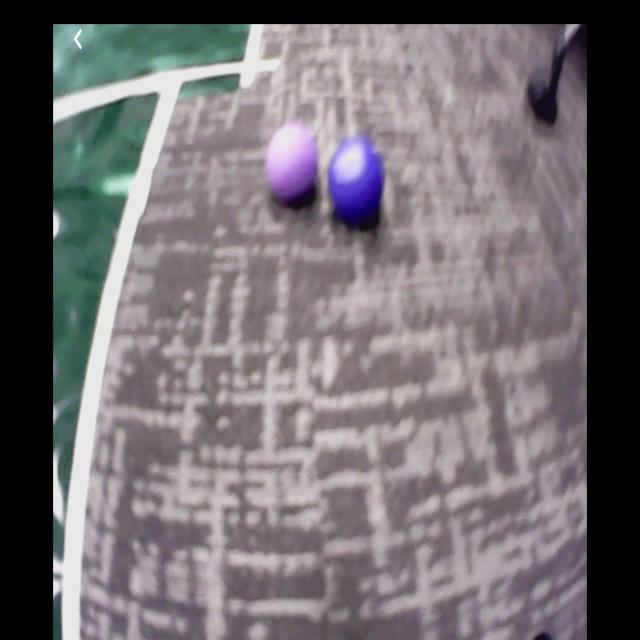ball: (329, 139, 385, 226), (270, 125, 321, 203)
